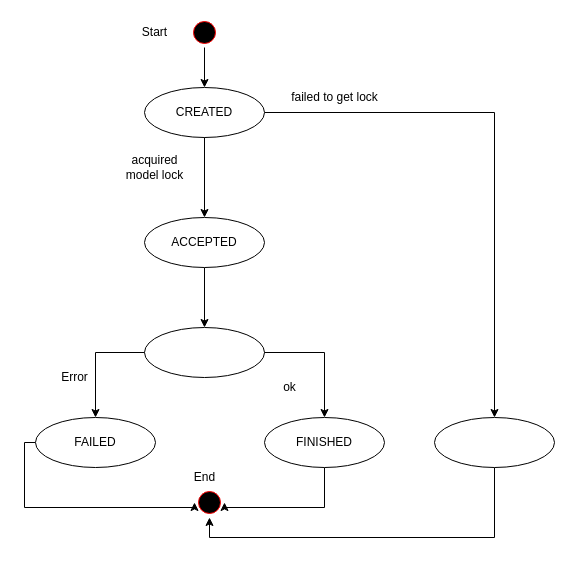
Some shapes in this 572 by 563 pixel diagram are drawn without their labels. Here are the shapes that lost their labels. From the top down, the centre of each, then its label:
the point at 204,352: RUNNING
the point at 494,442: REJECTED
